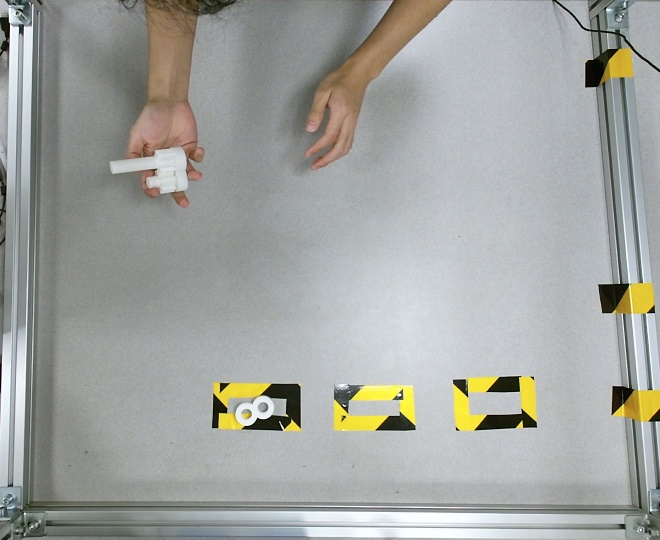stage_3: (109, 147, 189, 194)
